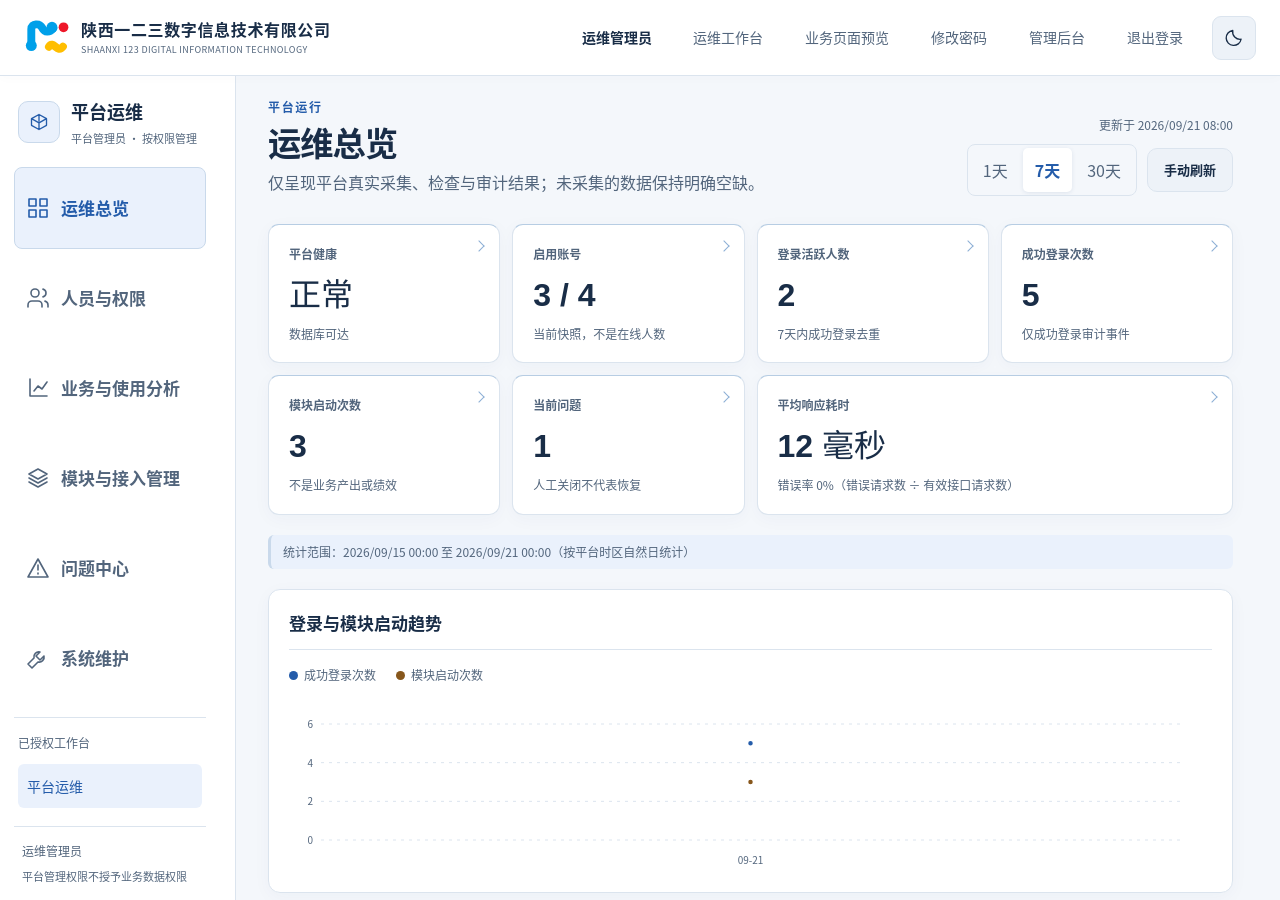
Test: ops workspace › 运维读取返回 ops_forbidden 后立即清空旧数据并刷新身份
This screenshot has width=1280, height=900.
Expected: the text "3 / 4" is shown, [533,277,596,313]
Click the button "手动刷新".
click(1190, 170)  # box [1147,148,1233,192]
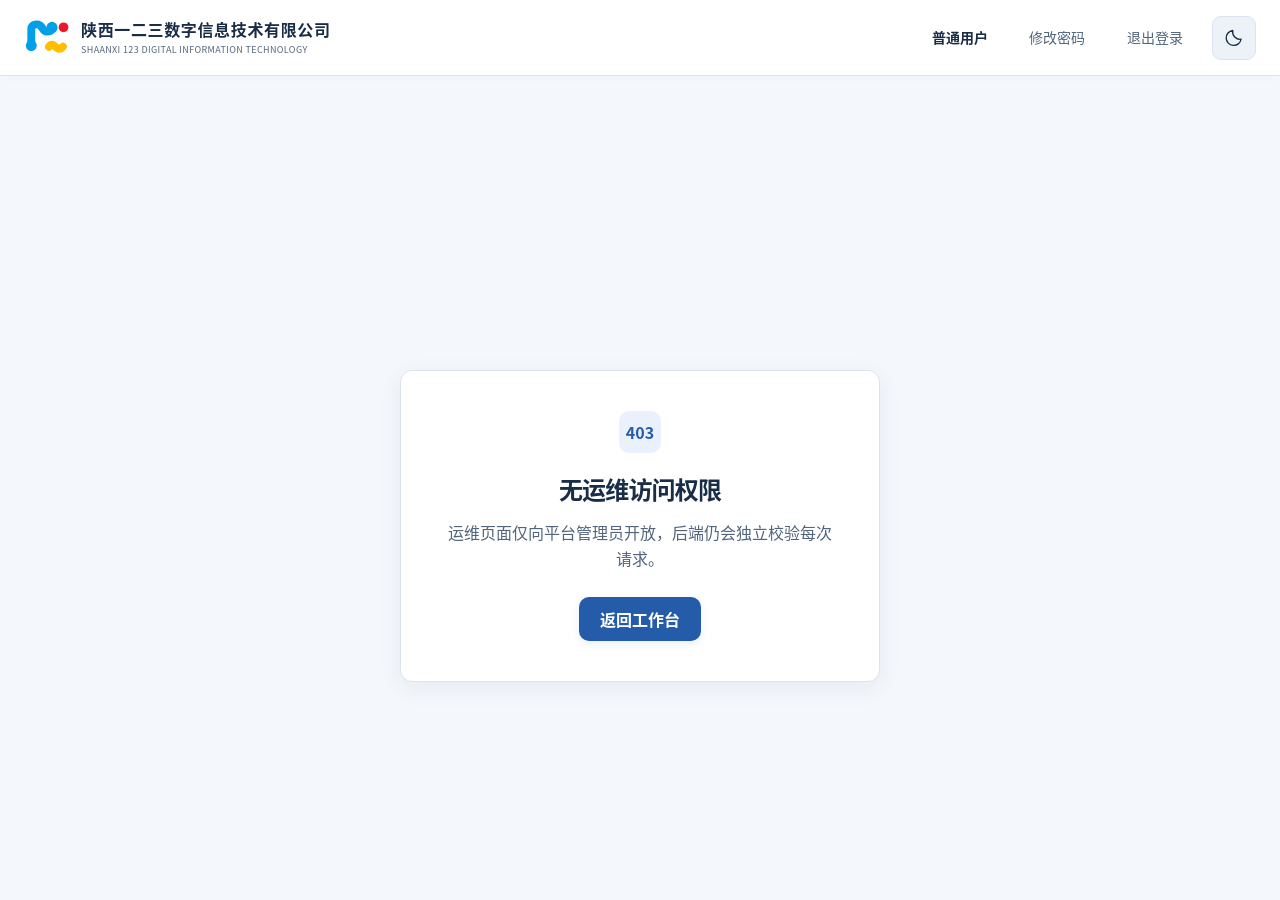
Expected: the heading "无运维访问权限" is shown, [559,471,721,506]
Expected: the link "3 / 4" is gone
